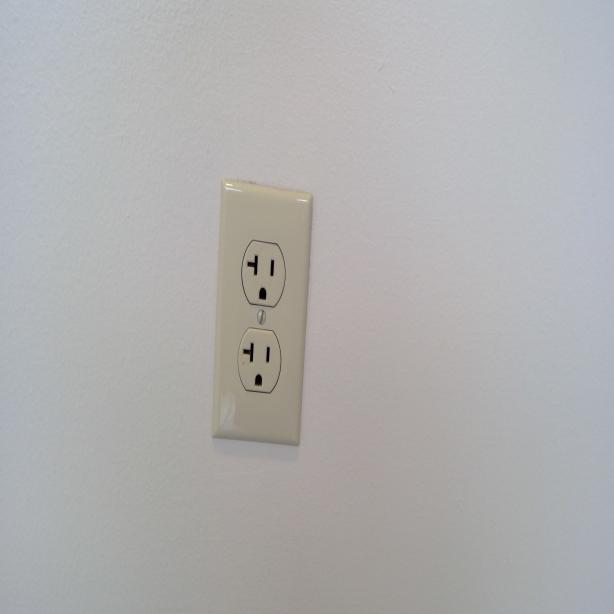typeb: (237, 329, 280, 394), (242, 244, 283, 304)
